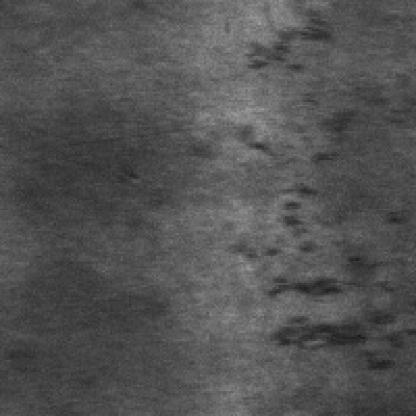rolled-in_scale: (241, 137, 408, 368), (241, 0, 327, 70)
